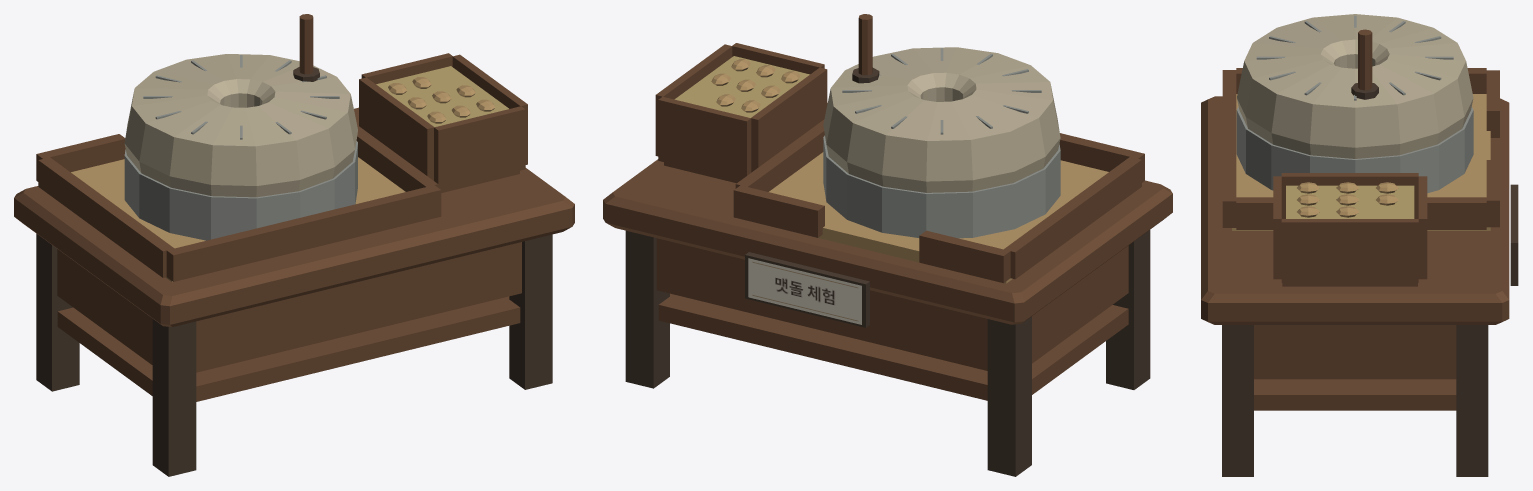
File: W10_Millstone_Experience.fbx
3 renders of one model, left to right at view 1: azimuth 30°, elevation 25°; view 2: azimuth 150°, elevation 25°; view 3: azimuth 270°, elevation 25°, orthographic.
Parts seen in each view (by area): view 1: Mill_Table, Upper_Millstone, Catch_Tray, Grain_Box, Lower_Millstone; view 2: Mill_Table, Upper_Millstone, Catch_Tray, Grain_Box, Lower_Millstone, Front_Label; view 3: Mill_Table, Upper_Millstone, Grain_Box, Catch_Tray, Lower_Millstone, Front_Label.
Boxes of the visible parts, x1=… form: Mill_Table: x1=14, y1=107, x2=574, y2=476; Upper_Millstone: x1=124, y1=14, x2=357, y2=197; Catch_Tray: x1=36, y1=125, x2=441, y2=282; Grain_Box: x1=359, y1=53, x2=527, y2=192; Lower_Millstone: x1=124, y1=141, x2=357, y2=240; Mill_Table: x1=603, y1=103, x2=1172, y2=476; Upper_Millstone: x1=823, y1=14, x2=1060, y2=192; Catch_Tray: x1=733, y1=119, x2=1144, y2=283; Grain_Box: x1=655, y1=43, x2=827, y2=183; Lower_Millstone: x1=823, y1=135, x2=1060, y2=238; Front_Label: x1=745, y1=252, x2=869, y2=327; Mill_Table: x1=1201, y1=96, x2=1509, y2=476; Upper_Millstone: x1=1237, y1=14, x2=1473, y2=158; Grain_Box: x1=1273, y1=173, x2=1427, y2=286; Catch_Tray: x1=1222, y1=68, x2=1499, y2=230; Lower_Millstone: x1=1236, y1=106, x2=1473, y2=193; Front_Label: x1=1510, y1=184, x2=1518, y2=285.
Bounding box in the file's own units: 1.95 × 1.61 × 1.29.
Materials: 7 (1 with a texture image).
